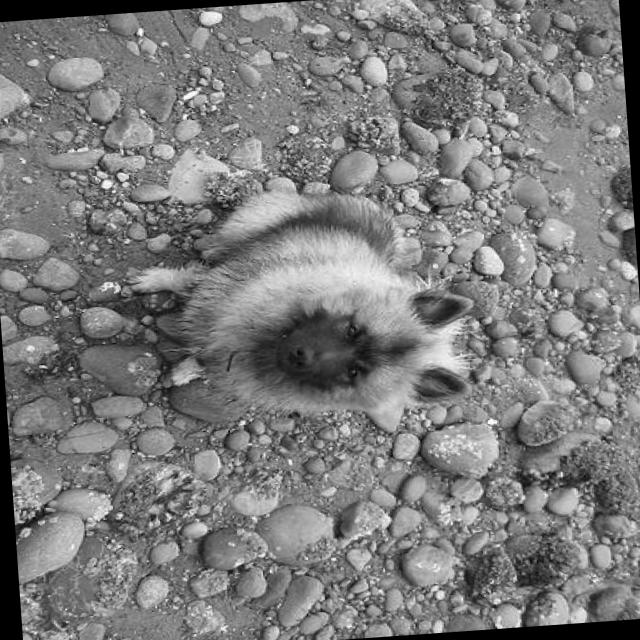sitting: (112, 172, 482, 436)
